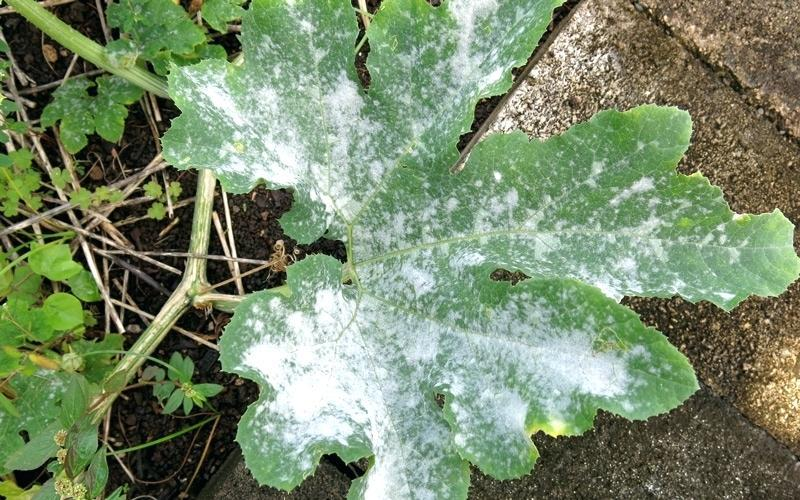Squash Powdery mildew leaf: (159, 1, 790, 500)
